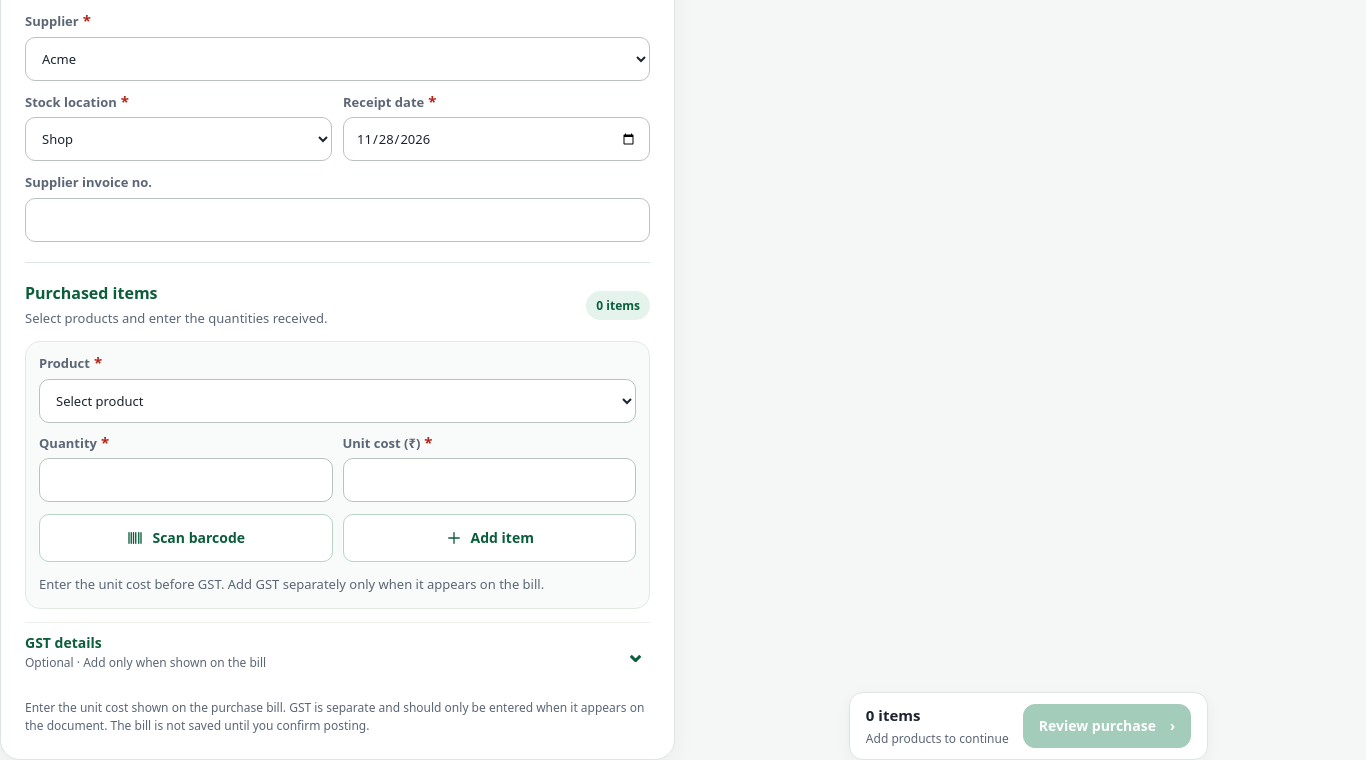
Test: Procurement manual GST › treats a blank GST as zero
The width and height of the screenshot is (1366, 760).
(page scrolled)
Select "Battery" in the dropdown labelled "Product *" at (338, 401), box [39, 379, 636, 423]
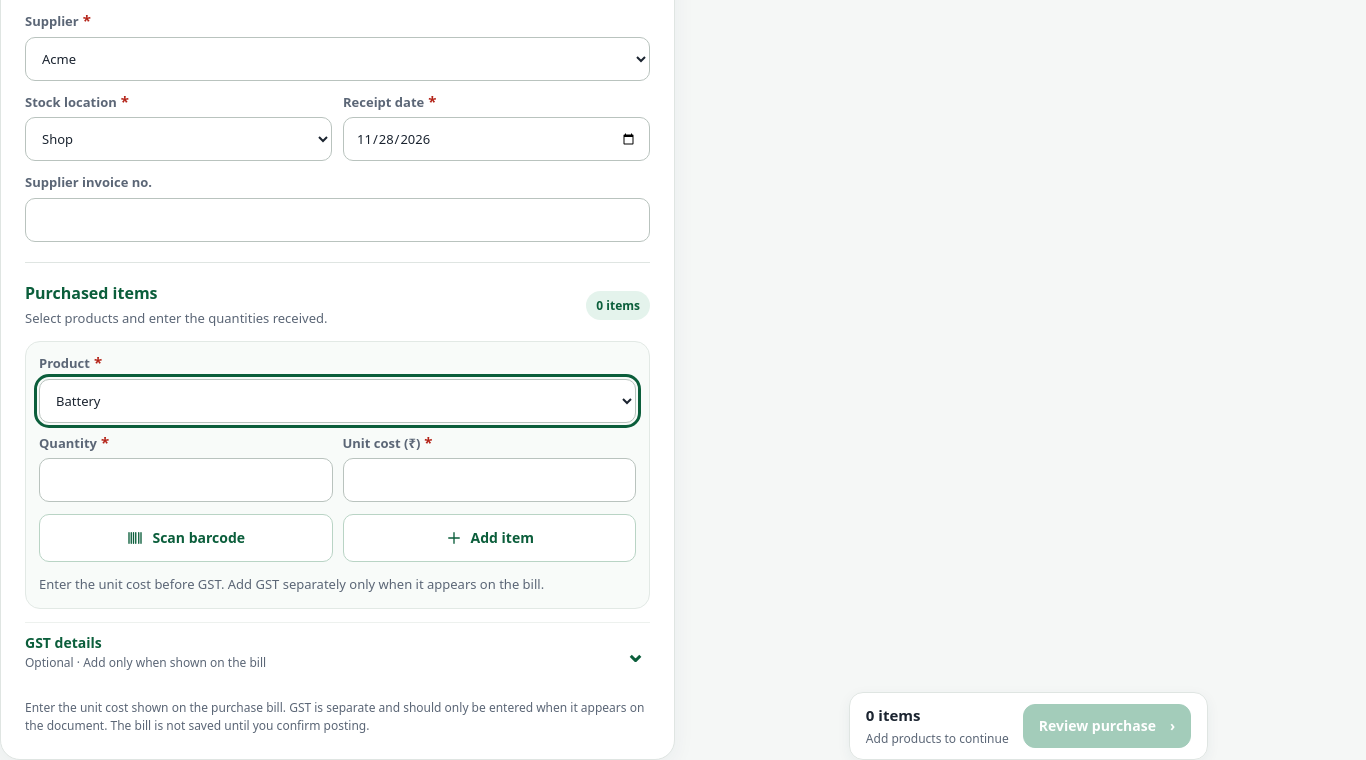
Type "10" into the field labelled "Quantity *" at (186, 480), box [39, 458, 332, 502]
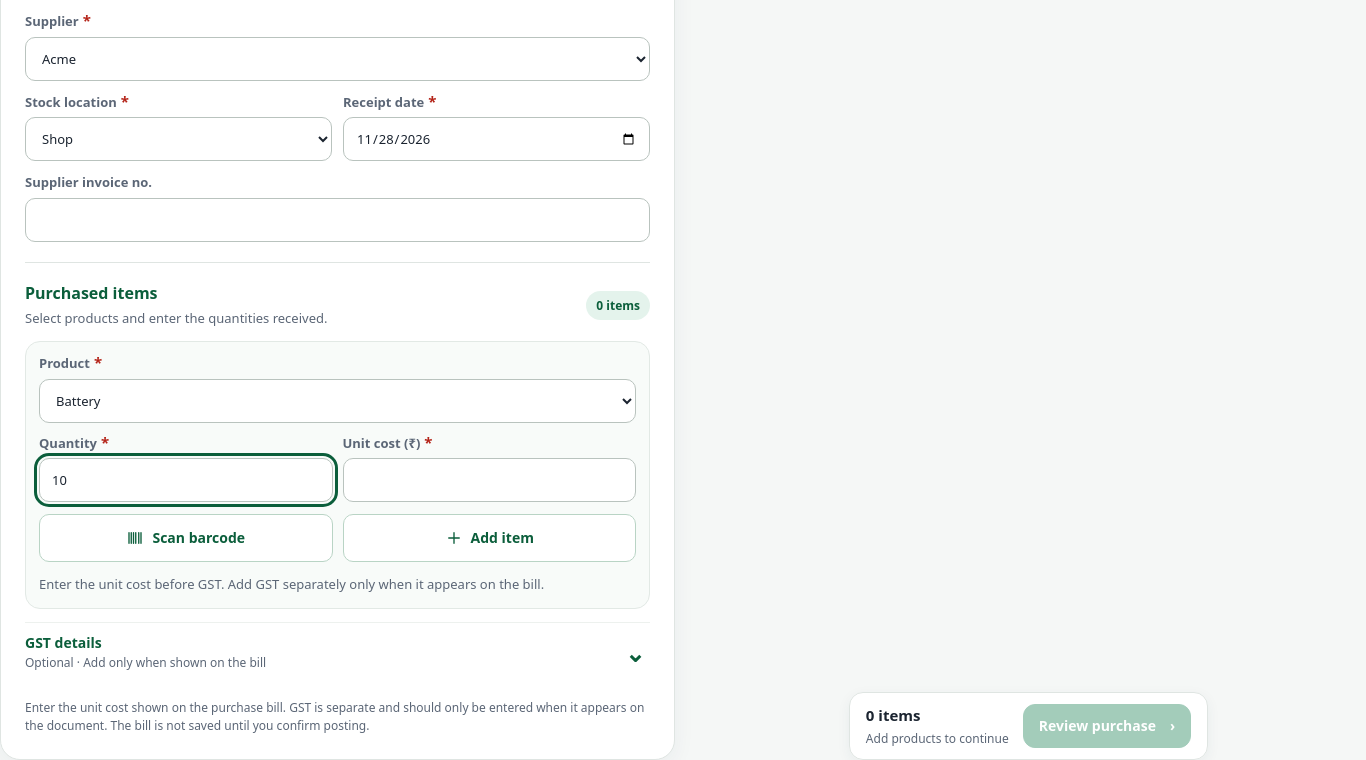
Type "100" into the field labelled "Unit cost (₹) *" at (489, 480), box [342, 458, 636, 502]
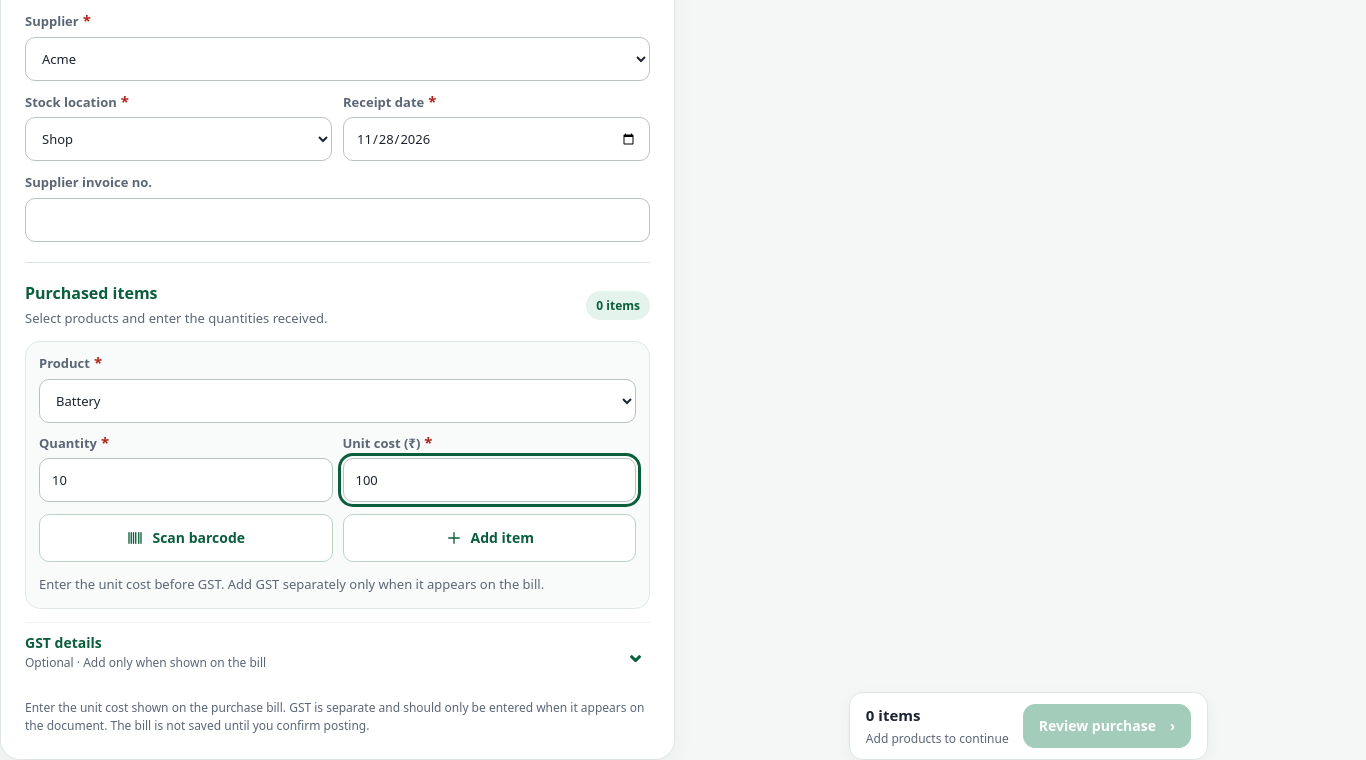
Click the button "Add item" at (489, 538), box [342, 514, 636, 562]
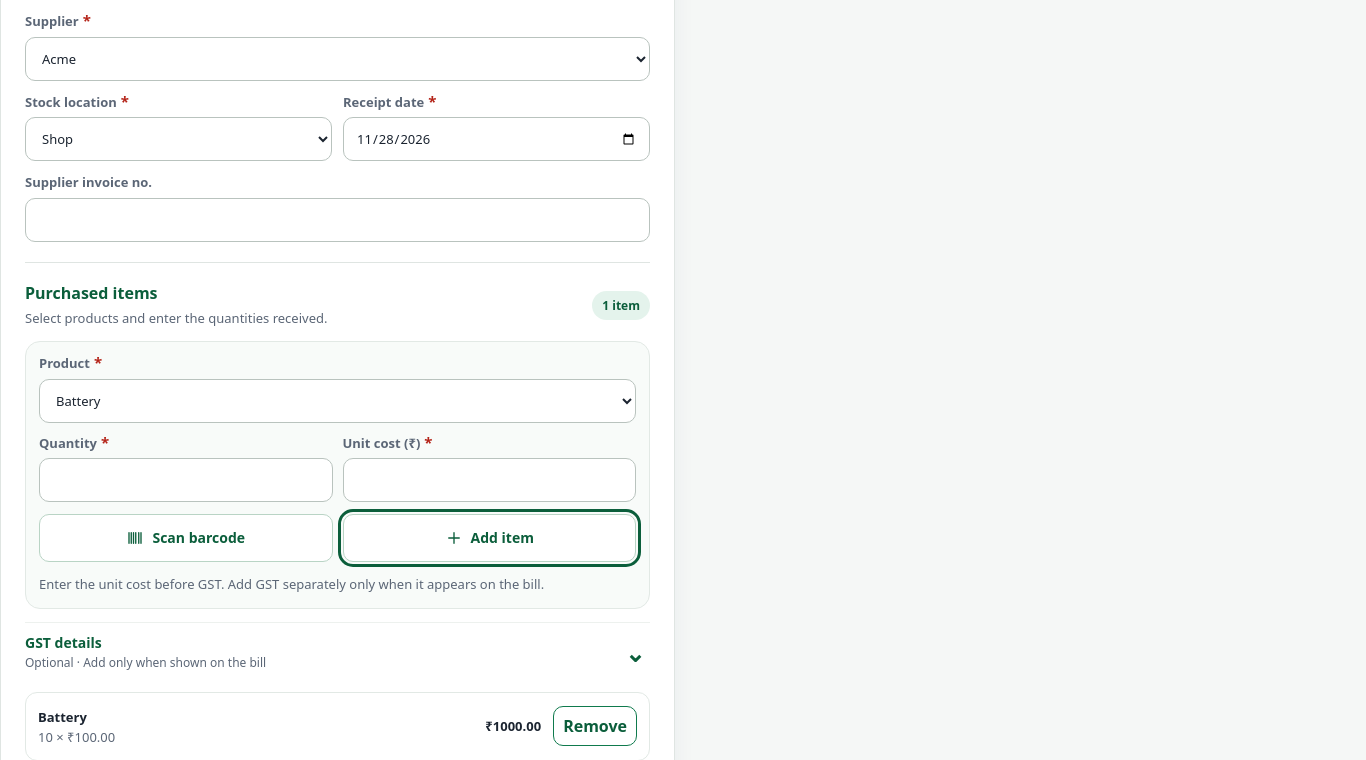
Result: the text "10 × ₹100.00" is shown at [38, 728, 115, 748]
